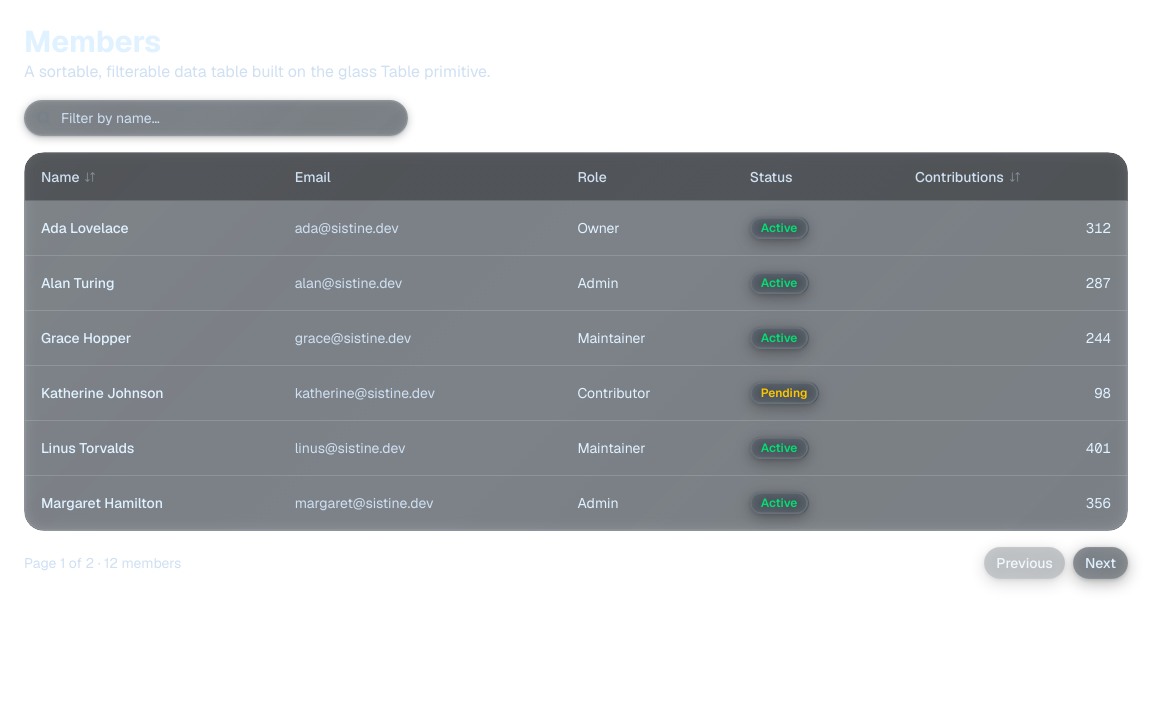
Test: DataTableBlock: react-table v9 features › reports a valid first page when filtering produces no results
Type "no matching member" into the field named "Filter members by name" at {"x": 216, "y": 118}, box top-left (24, 100), bottom-right (408, 136)
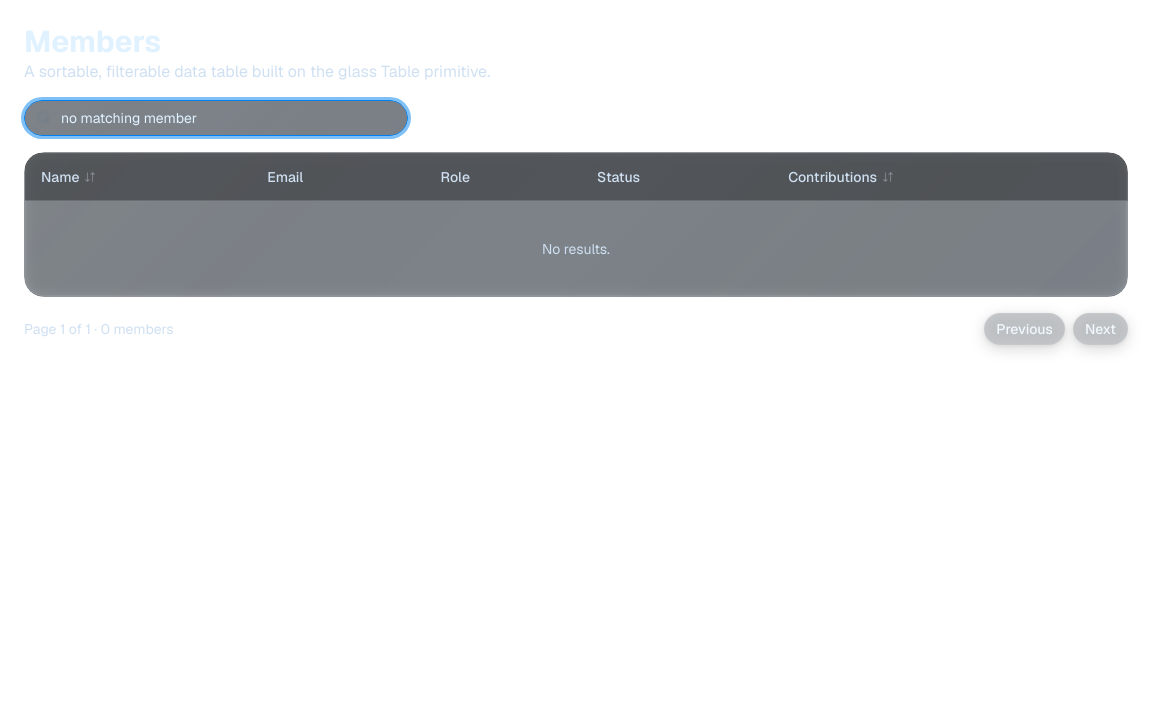
Check: the text "No results." is shown, box top-left (24, 200), bottom-right (1128, 296)
Check: the text "Page 1 of 1 · 0 members" is shown, box top-left (24, 319), bottom-right (174, 339)
Check: the button "Next" is disabled, box top-left (1073, 313), bottom-right (1128, 345)
